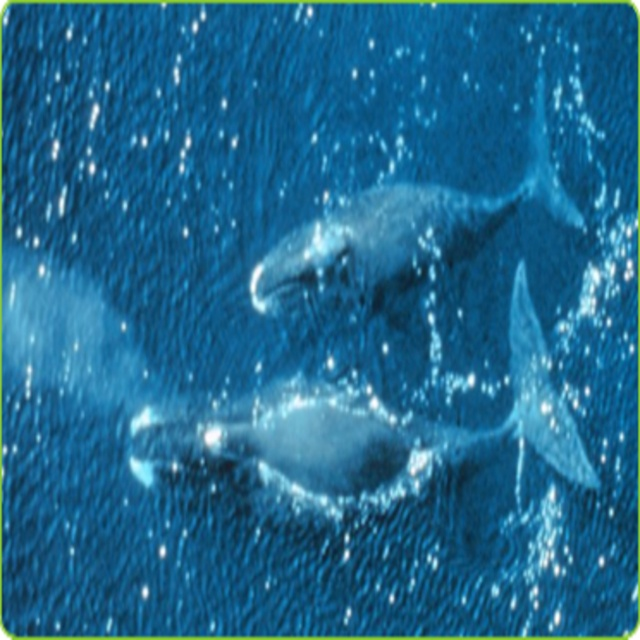Shark: (138, 262, 597, 515), (248, 73, 585, 326)
